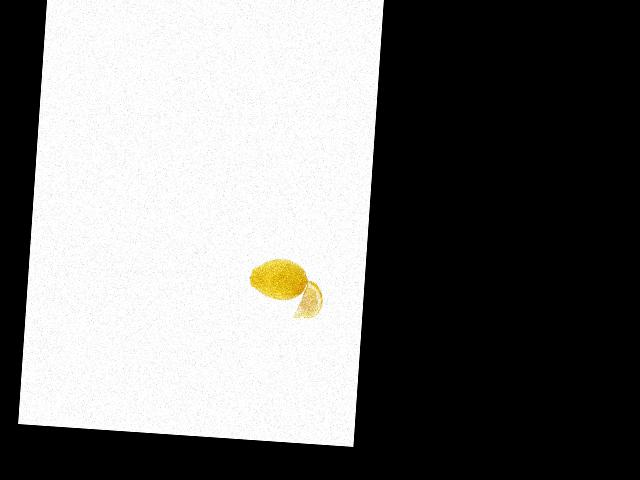lemon: (246, 254, 312, 304)
